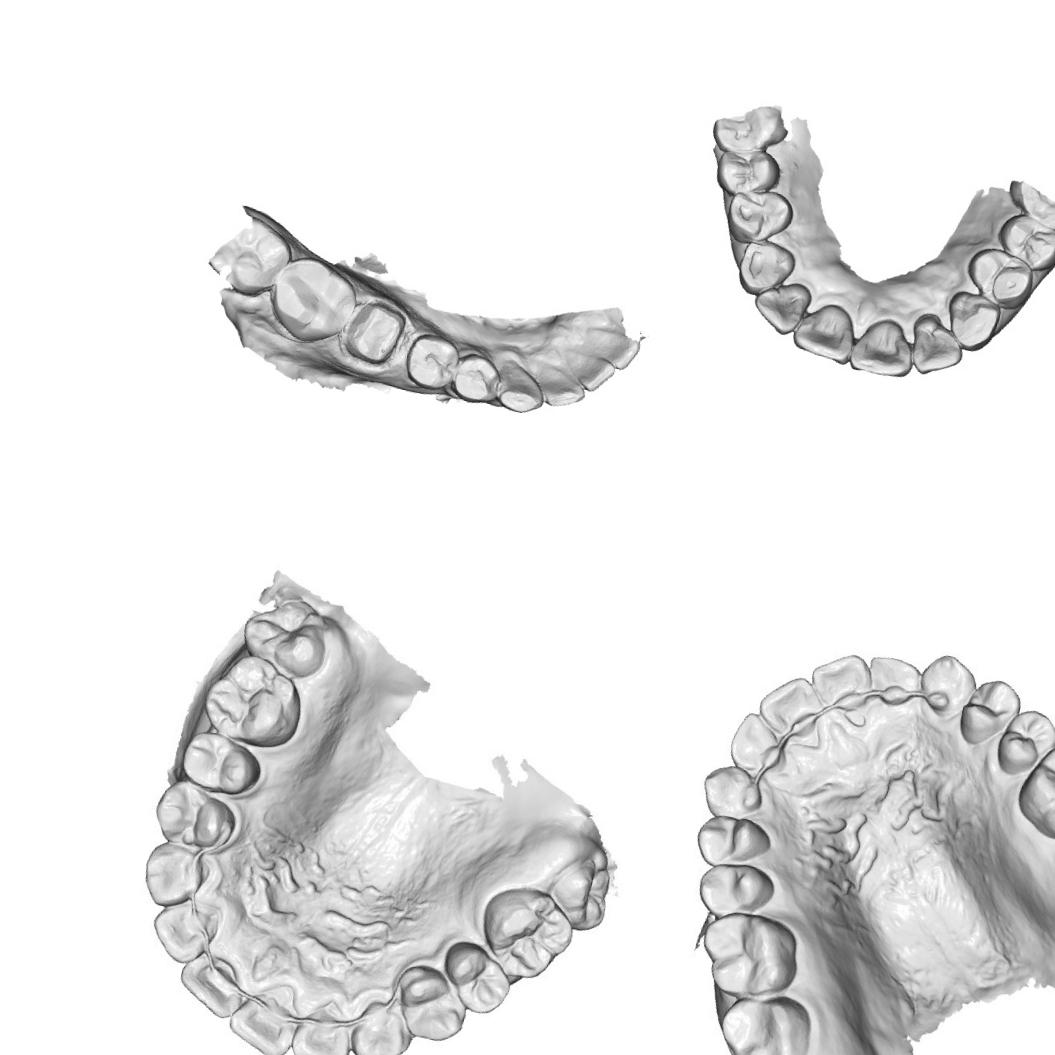canine: (136, 834, 216, 917), (733, 234, 800, 302), (697, 759, 766, 825), (939, 287, 1004, 355), (345, 998, 417, 1055), (916, 650, 976, 717), (492, 355, 552, 419)
crown: (337, 292, 413, 373)
incisor: (172, 940, 256, 1026), (222, 977, 305, 1055), (144, 893, 224, 971), (787, 297, 864, 368), (846, 312, 922, 382), (804, 646, 873, 716), (903, 310, 970, 382), (748, 274, 814, 340), (758, 672, 822, 734), (727, 710, 787, 772), (288, 1002, 356, 1055), (864, 650, 926, 708), (552, 344, 619, 397), (527, 361, 592, 414), (584, 325, 643, 374)
molar: (196, 647, 312, 756), (472, 880, 582, 988), (691, 906, 803, 1005), (260, 250, 366, 352), (234, 585, 337, 683), (205, 210, 299, 303), (709, 986, 817, 1055), (543, 847, 619, 936), (1017, 738, 1055, 835)
premolar: (148, 776, 241, 856), (389, 962, 476, 1047), (175, 728, 267, 803), (435, 936, 519, 1018), (959, 242, 1039, 315), (721, 182, 797, 253), (694, 860, 776, 924), (955, 676, 1023, 748), (712, 140, 786, 204), (694, 812, 770, 872), (990, 207, 1055, 277), (399, 328, 464, 395), (996, 705, 1055, 772), (448, 348, 506, 409)
